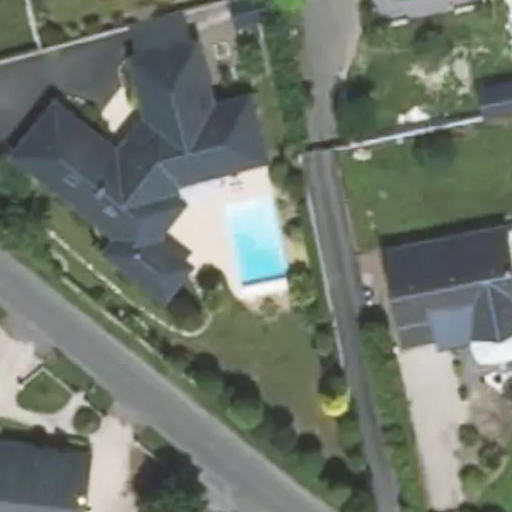pool: (225, 205, 286, 278)
